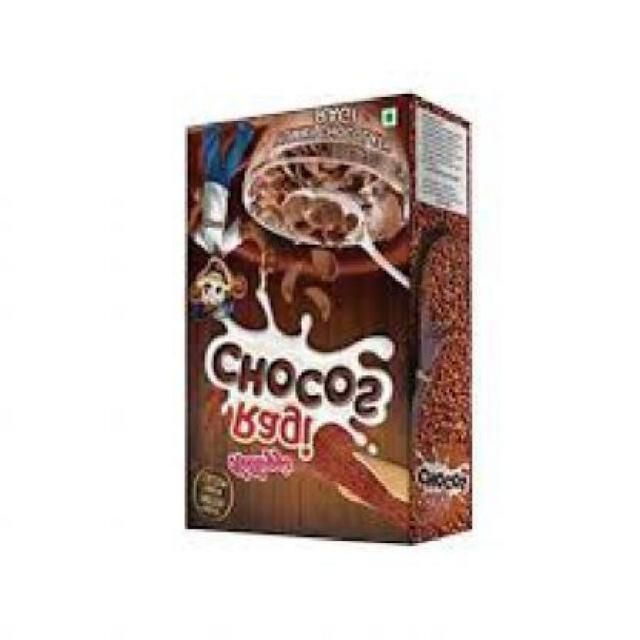box: (177, 97, 469, 549)
